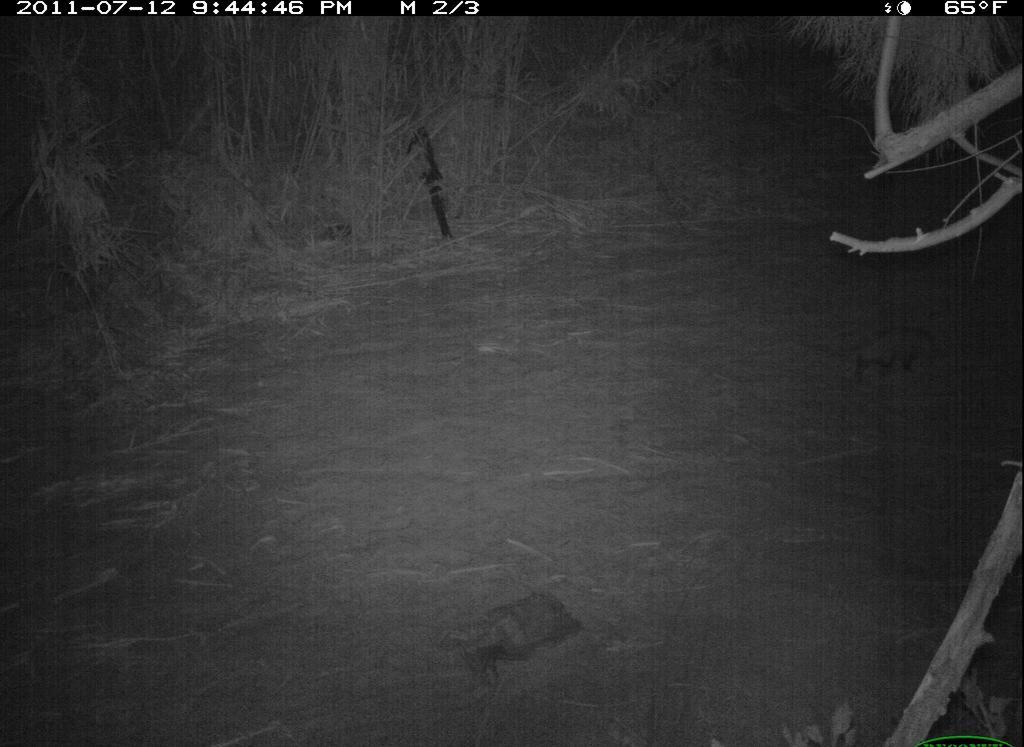opossum: (818, 315, 948, 399)
